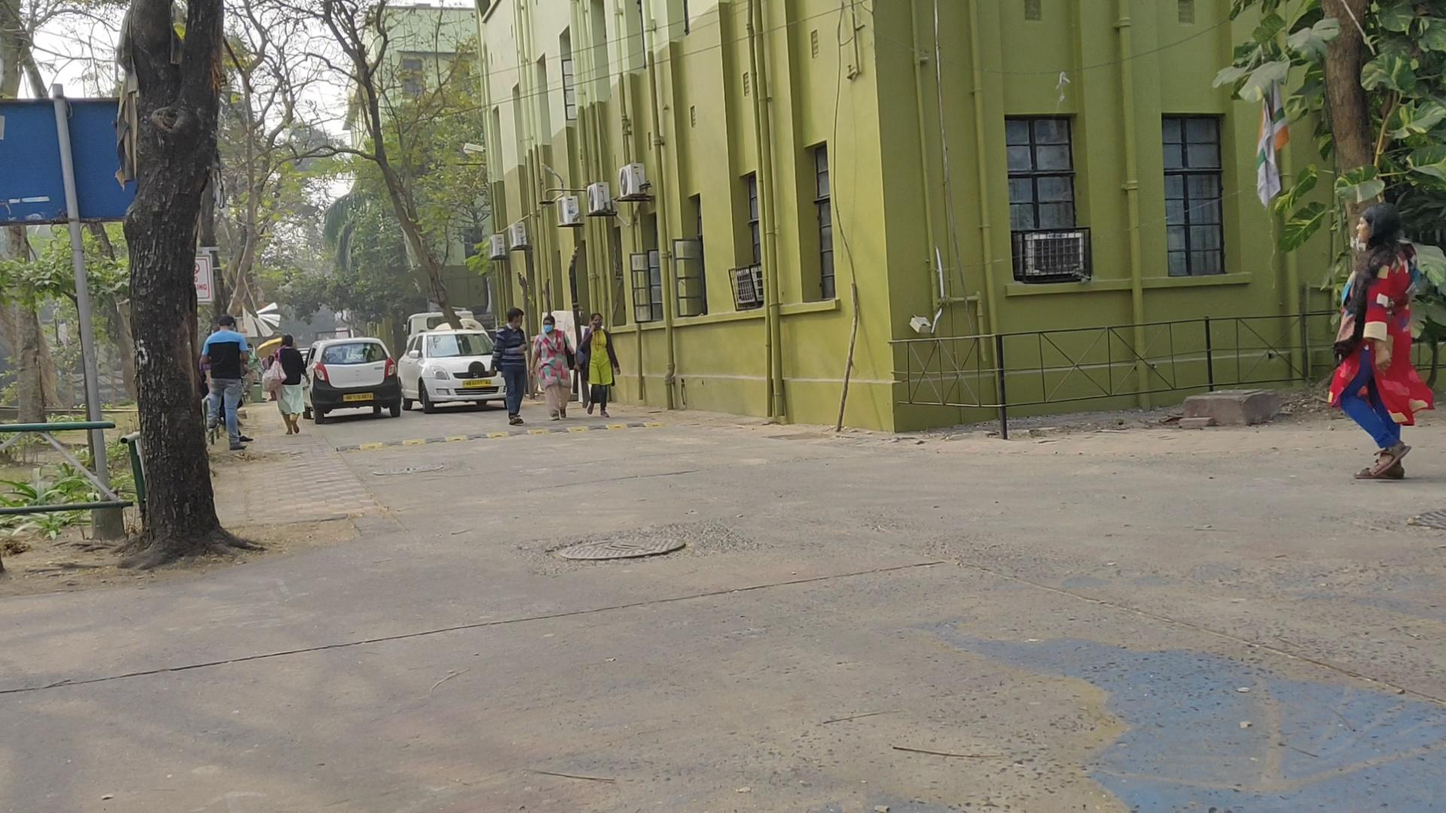car: (398, 329, 511, 413), (307, 336, 403, 423)
